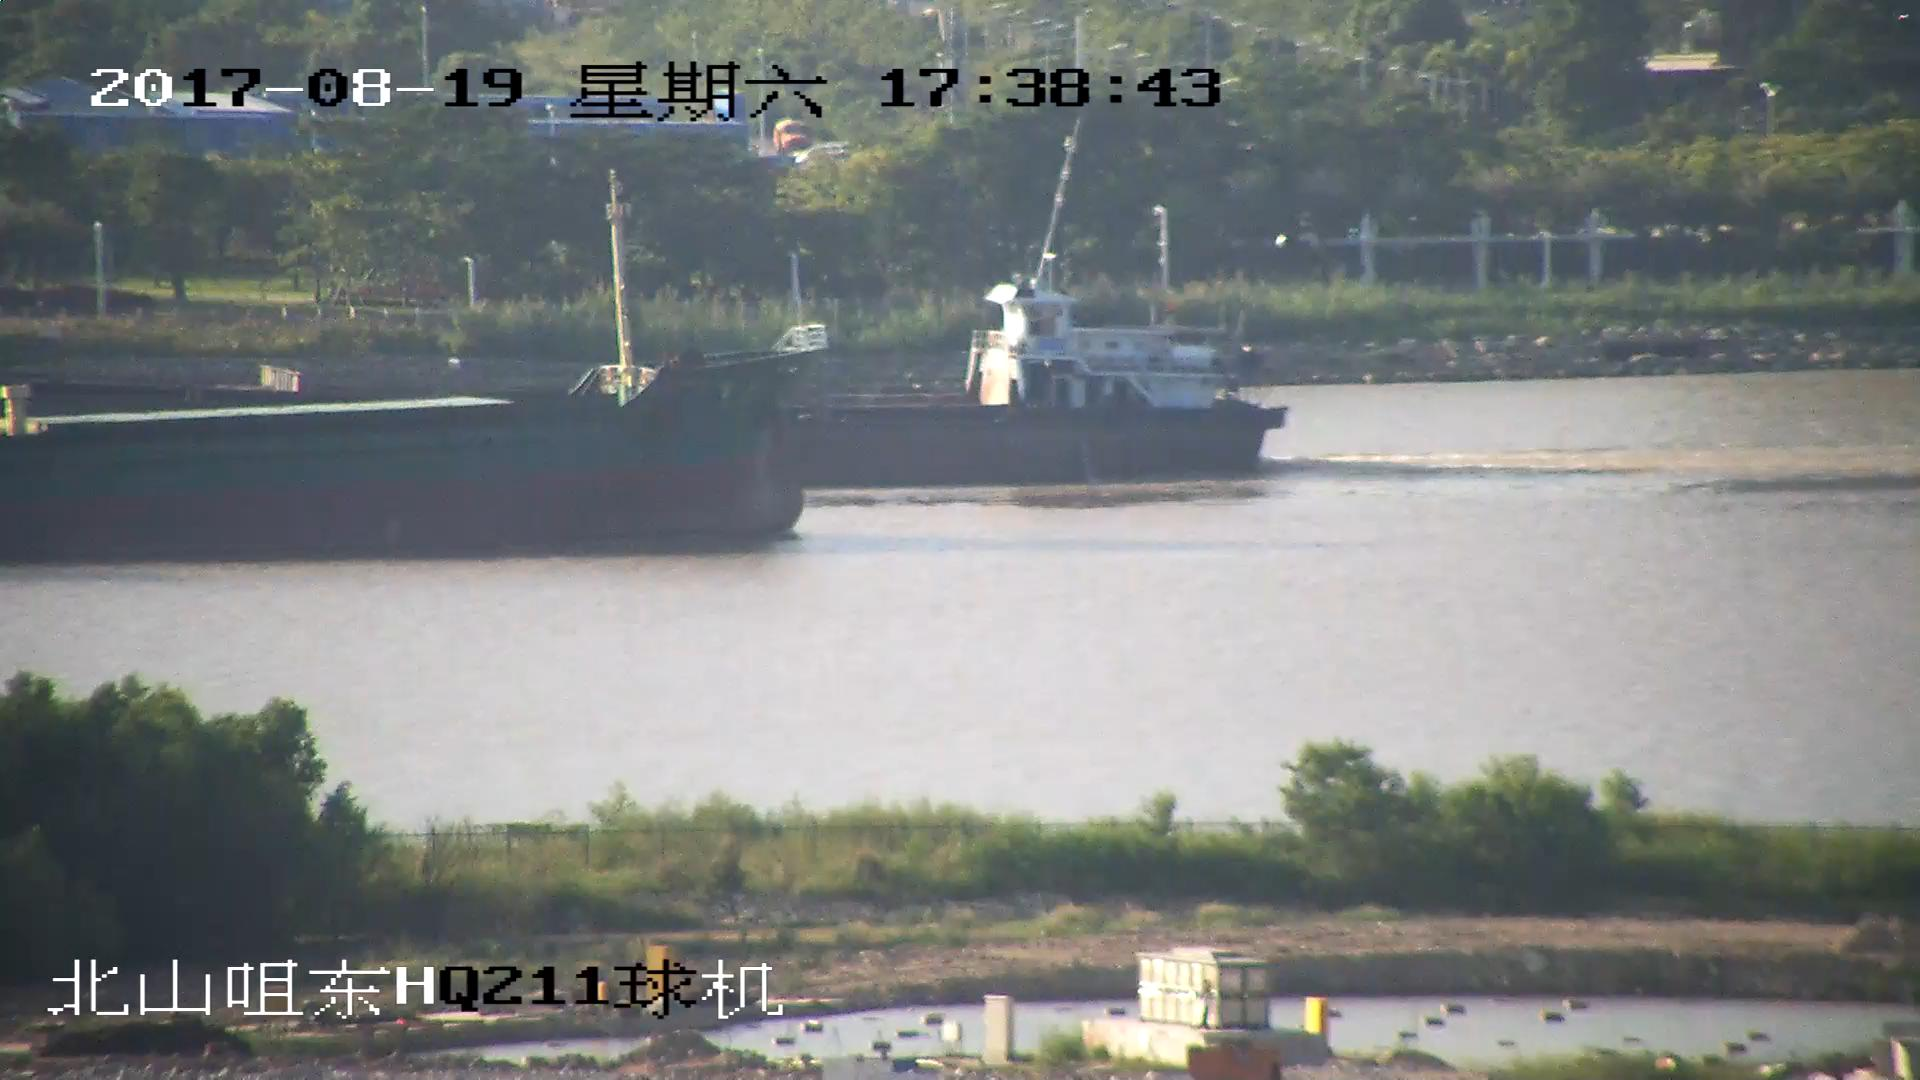general cargo ship: (1, 340, 815, 541), (793, 281, 1261, 469)
